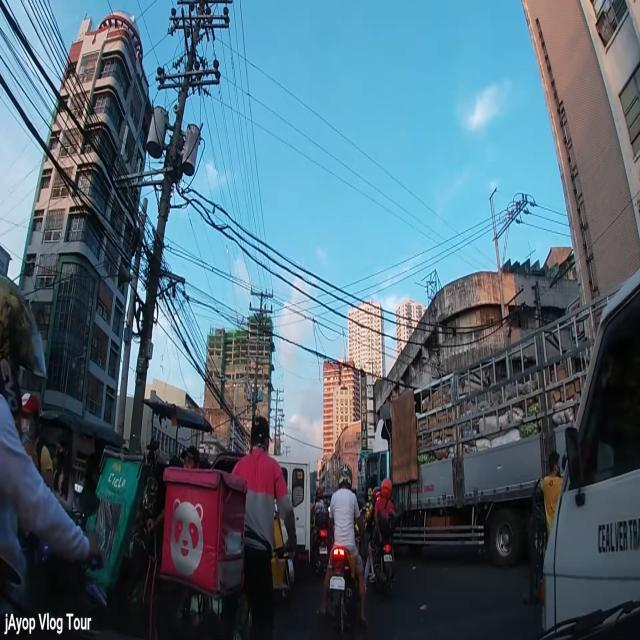bike: (160, 417, 296, 640)
motorcycle: (319, 466, 368, 628), (368, 478, 396, 594), (312, 488, 330, 580)
tricycle: (79, 397, 214, 640)
truck: (366, 284, 624, 562), (542, 268, 640, 639), (269, 454, 312, 572)
